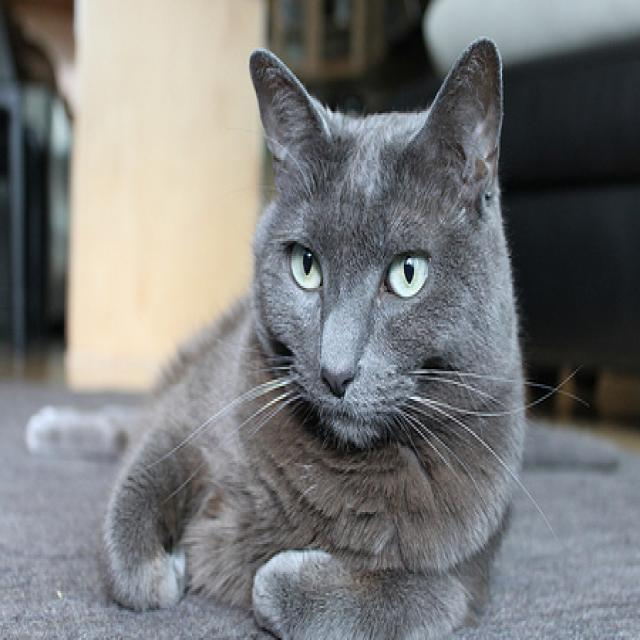Russian Blue: (101, 36, 529, 640)
